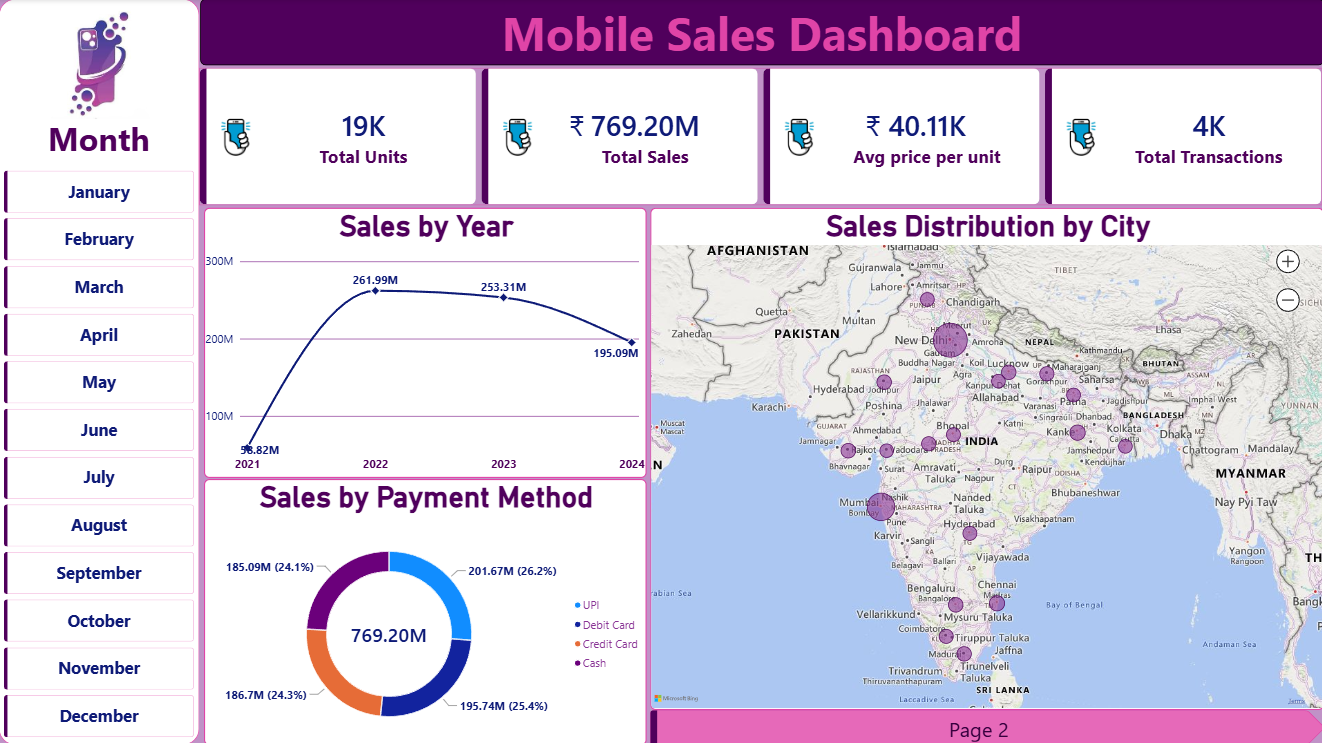

The page's visual inventory and layout, read from the dashboard file:
{"tool":"powerbi","page":{"name":"Page 1","canvas":[1920,1080],"ordinal":0},"visuals":[{"type":"shape","box":[0,0,290,1079.9],"z":0},{"type":"image","box":[43.4,16.3,202.7,157.4],"z":1000},{"type":"advancedSlicerVisual","fields":{"Values":["Sheet1.Order Date.Variation.Date Hierarchy.Month"]},"box":[7.2,170.1,275.1,901.2],"z":2000},{"type":"cardVisual","fields":{"Data":["Sheet1.Total Units","Sum(Sheet1.Total Sales Price)","Sheet1.Avg price per unit","Sheet1.Total Transaction"]},"box":[289.5,99.5,1628.7,199.1],"z":3000},{"type":"shape","box":[291.4,0,1626.9,95.9],"z":4000},{"type":"lineChart","title":"Sales by Year","fields":{"Category":["Sheet1.Order Date.Variation.Date Hierarchy.Year"],"Y":["Sum(Sheet1.Total Sales Price)"]},"box":[296.8,302.2,640.6,390.9],"z":5000},{"type":"map","title":"Sales Distribution by City","fields":{"Category":["Monthly_sales.City"],"Size":["Sum(Monthly_sales.Total Sales Price)"]},"box":[942.8,302.2,975.4,727.5],"z":6000},{"type":"donutChart","title":"Sales by Payment Method","fields":{"Category":["Monthly_sales.Payment Method"],"Y":["Sum(Monthly_sales.Total Sales Price)"]},"box":[296.8,694.9,640.6,385.5],"z":7000},{"type":"pageNavigator","box":[942.8,1029.7,977.2,50.7],"z":8000},{"type":"shape","box":[805.3,155.6,41.6,48.9],"z":9000},{"type":"shape","box":[1234.2,155.6,41.6,48.9],"z":10000}]}

Visuals, with their boxes in screenshot pixels (x1, y1, x2, y2), scaled from the page's 1920x1080 canvas onto the 1322x743 screenshot:
shape: <bbox>0, 0, 200, 742</bbox>
image: <bbox>30, 11, 169, 119</bbox>
advancedSlicerVisual - Sheet1.Order Date.Variation.Date Hierarchy.Month: <bbox>5, 117, 194, 737</bbox>
cardVisual - Sheet1.Total Units x Sum(Sheet1.Total Sales Price): <bbox>199, 68, 1321, 205</bbox>
shape: <bbox>201, 0, 1321, 66</bbox>
"Sales by Year" lineChart: <bbox>204, 208, 645, 477</bbox>
"Sales Distribution by City" map: <bbox>649, 208, 1321, 708</bbox>
"Sales by Payment Method" donutChart: <bbox>204, 478, 645, 742</bbox>
pageNavigator: <bbox>649, 708, 1321, 742</bbox>
shape: <bbox>554, 107, 583, 141</bbox>
shape: <bbox>850, 107, 878, 141</bbox>
